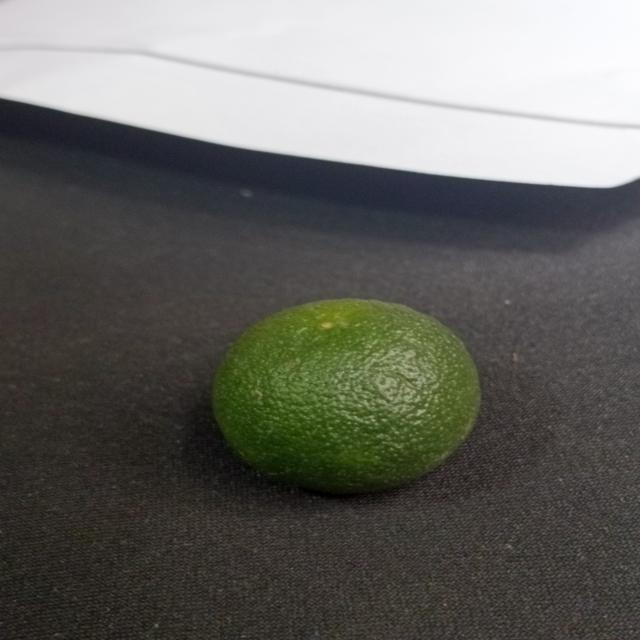heathy: (211, 295, 493, 499)
